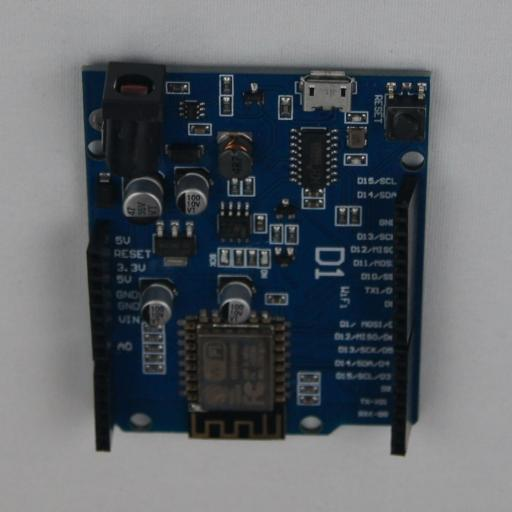Arduino Uno WiFi Shield: (82, 58, 430, 456)
